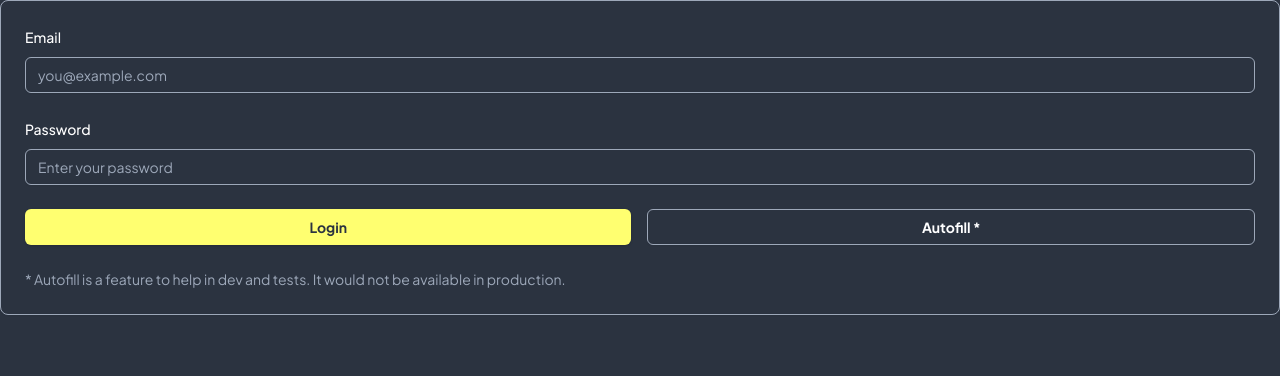
LoginForm › displays network error message on unexpected error
The image size is (1280, 376).
In the field labelled "Email": (640, 75) [25,57,1255,93], type "test@example.com"
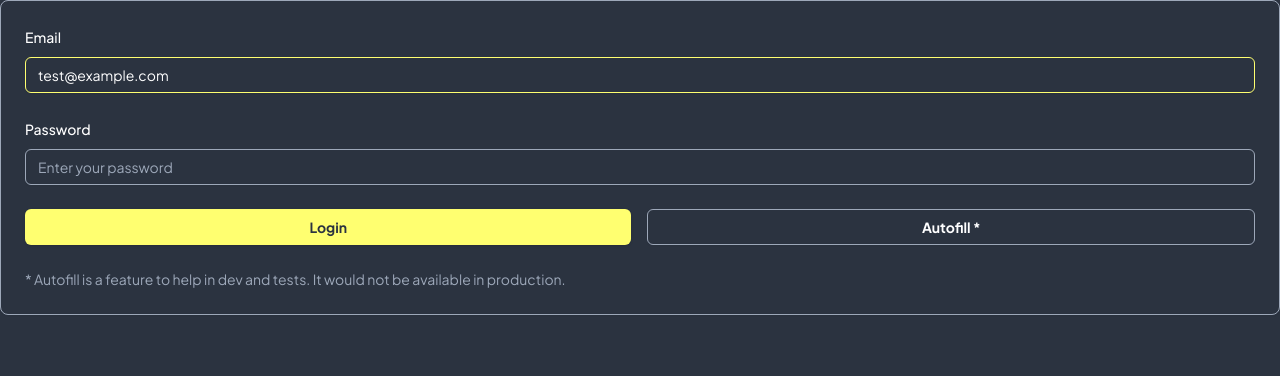
In the password field labelled "Password": (640, 167) [25,149,1255,185], type "password123"
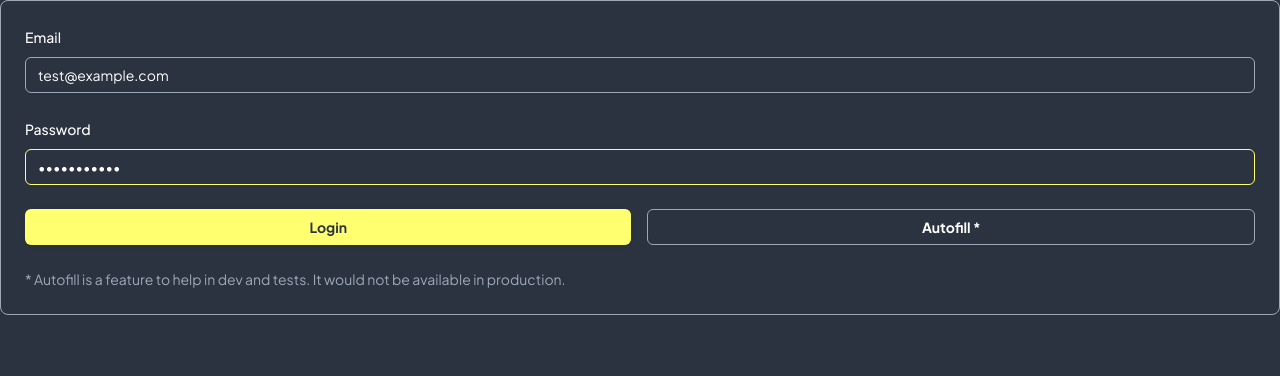
Click the button "Login": (328, 227) [25,209,632,245]
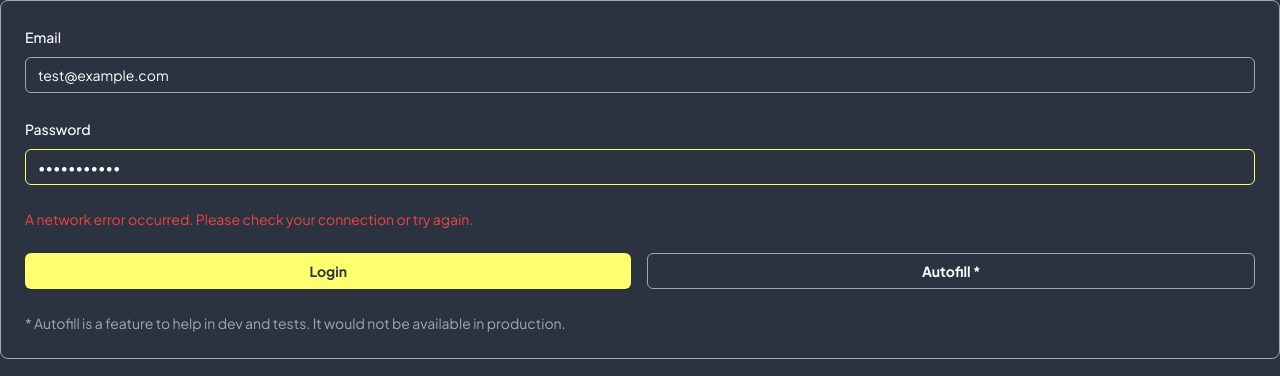
Expected: the text "A network error occurred. Please check your connection or try again." is shown, [25,210,473,228]
